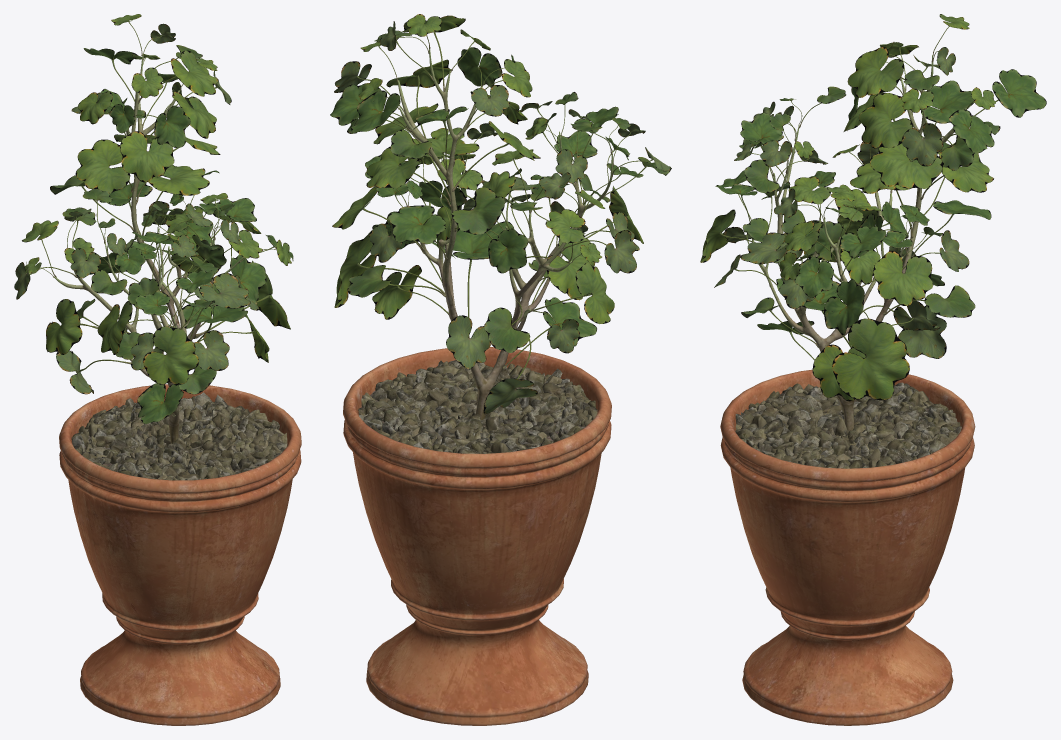
File: potted_plant_01.glb
3 views of the same model, side by side, from view 1: azimuth 30°, elevation 25°; view 2: azimuth 150°, elevation 25°; view 3: azimuth 270°, elevation 25° (orthographic). The views are drawn at different scales.
Visible parts, largest first — view 1: potted_plant_01_pot, potted_plant_01_leaves, potted_plant_01_pebbles, potted_plant_01_stem; view 2: potted_plant_01_pot, potted_plant_01_leaves, potted_plant_01_pebbles, potted_plant_01_stem; view 3: potted_plant_01_pot, potted_plant_01_leaves, potted_plant_01_pebbles, potted_plant_01_stem.
Boxes of the visible parts, x1,y1,x2,y2 form: potted_plant_01_pot: (59,384,301,725); potted_plant_01_leaves: (14,14,293,423); potted_plant_01_pebbles: (71,392,287,480); potted_plant_01_stem: (53,54,244,443); potted_plant_01_pot: (343,347,611,725); potted_plant_01_leaves: (330,14,671,414); potted_plant_01_pebbles: (358,360,597,453); potted_plant_01_stem: (397,49,612,420); potted_plant_01_pot: (720,369,975,725); potted_plant_01_leaves: (700,14,1046,401); potted_plant_01_pebbles: (735,382,961,468); potted_plant_01_stem: (751,55,966,431).
Size of the model in its own units: 0.5874 by 1.34 by 0.6336.
Materials: 2 (2 with a texture image).
